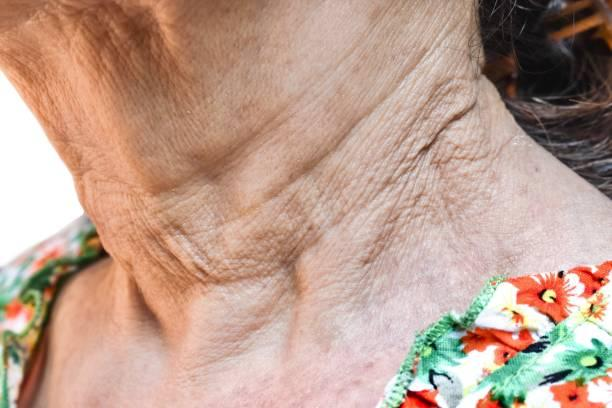Dry-Skin: (122, 29, 443, 298)
